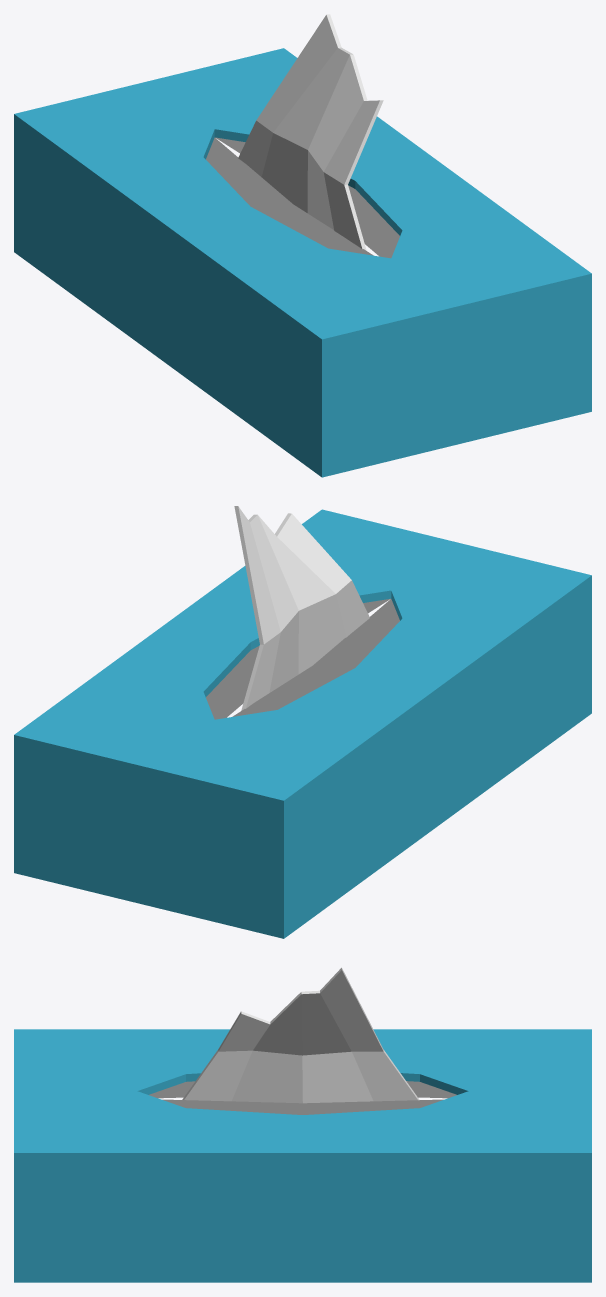
The picture shows the model from 3 angles, top to bottom: view 1: azimuth 30°, elevation 25°; view 2: azimuth 150°, elevation 25°; view 3: azimuth 270°, elevation 25°; orthographic projection. The views are drawn at different scales.
Visible parts, largest first — view 1: Tissue Box; view 2: Tissue Box; view 3: Tissue Box.
Part boxes in pixels (x1=…): Tissue Box: x1=14, y1=14, x2=591, y2=477; Tissue Box: x1=14, y1=506, x2=591, y2=938; Tissue Box: x1=14, y1=967, x2=591, y2=1282.
Size of the model in its own units: 0.0724 by 0.0747 by 0.1431.
Materials: 1 (1 with a texture image).
